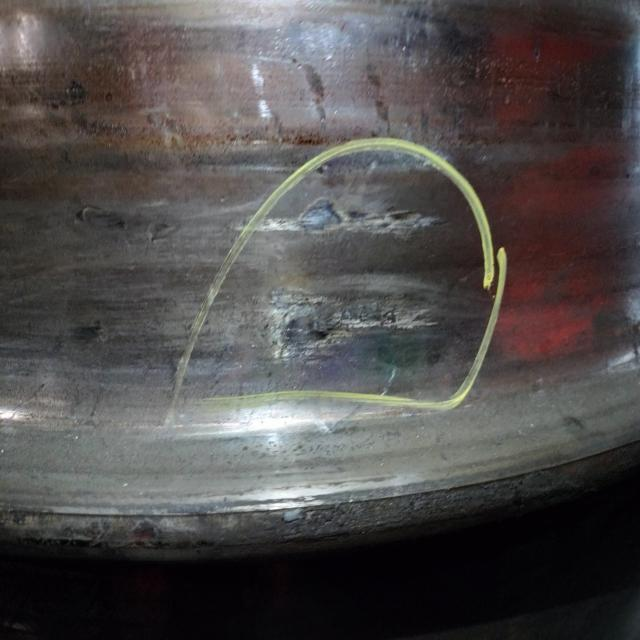Rollerpile: (246, 284, 441, 372)
flat: (297, 197, 448, 272)
